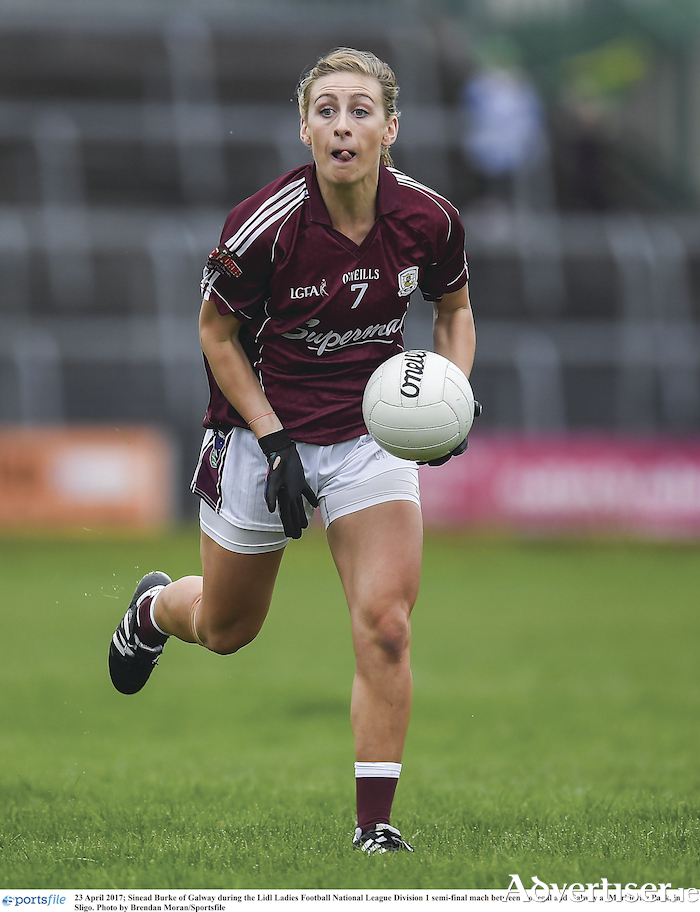ball: (363, 342, 481, 460)
player: (194, 21, 450, 837)
